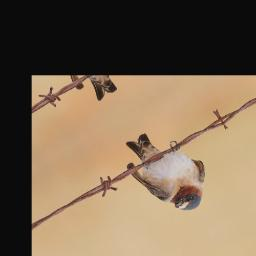Swallow: (114, 115, 223, 227)
